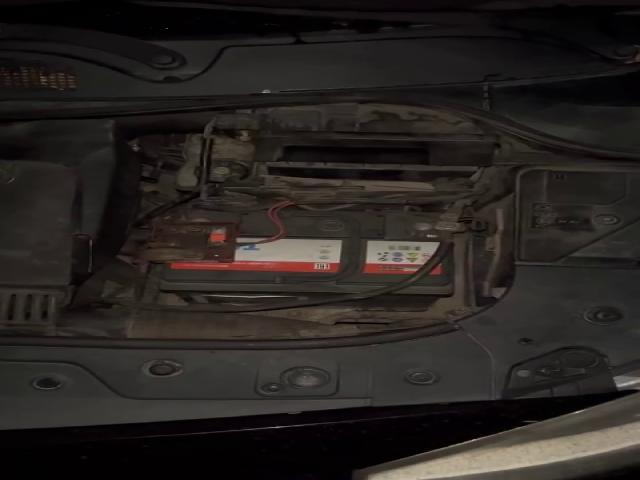accumulator: (130, 207, 465, 312)
fuse_box: (480, 165, 638, 269)
